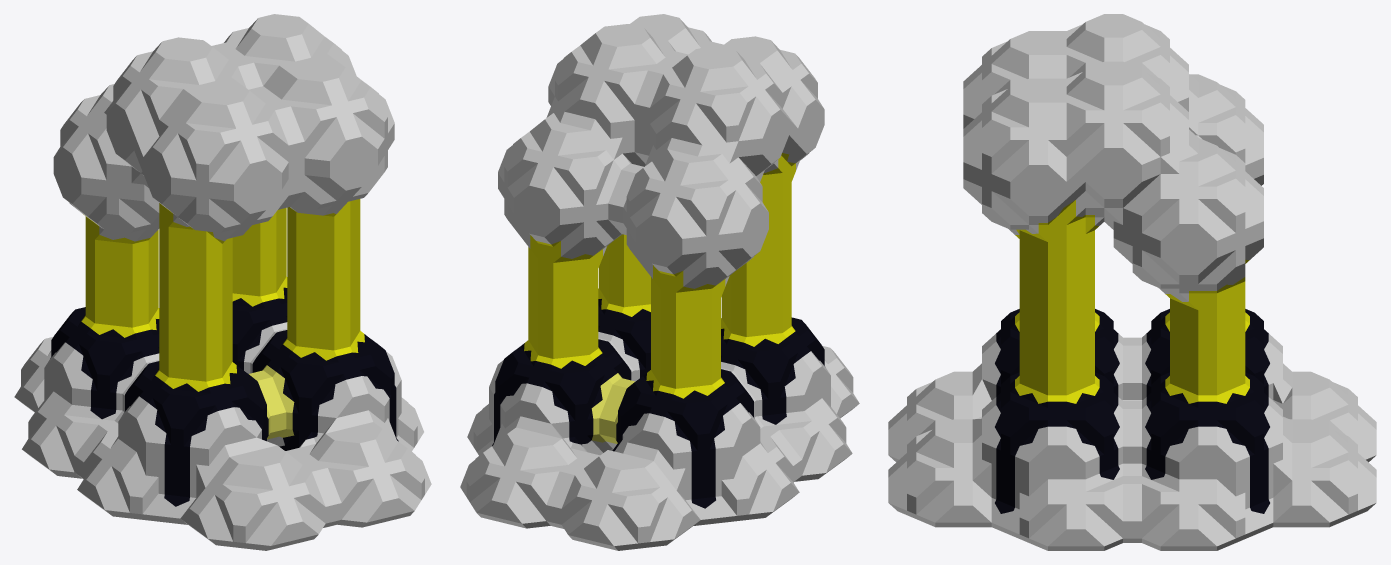
File: pylon.fbx
The picture shows the model from 3 angles, left to right: view 1: azimuth 30°, elevation 25°; view 2: azimuth 150°, elevation 25°; view 3: azimuth 270°, elevation 25°; orthographic projection. The views are drawn at different scales.
Parts seen in each view (by area): view 1: pylon; view 2: pylon; view 3: pylon.
Part boxes in pixels (bbox=[...]): pylon: bbox=[14, 14, 431, 550]; pylon: bbox=[460, 14, 859, 550]; pylon: bbox=[888, 14, 1376, 550].
Bounding box in the file's own units: 200 × 250 × 260.
